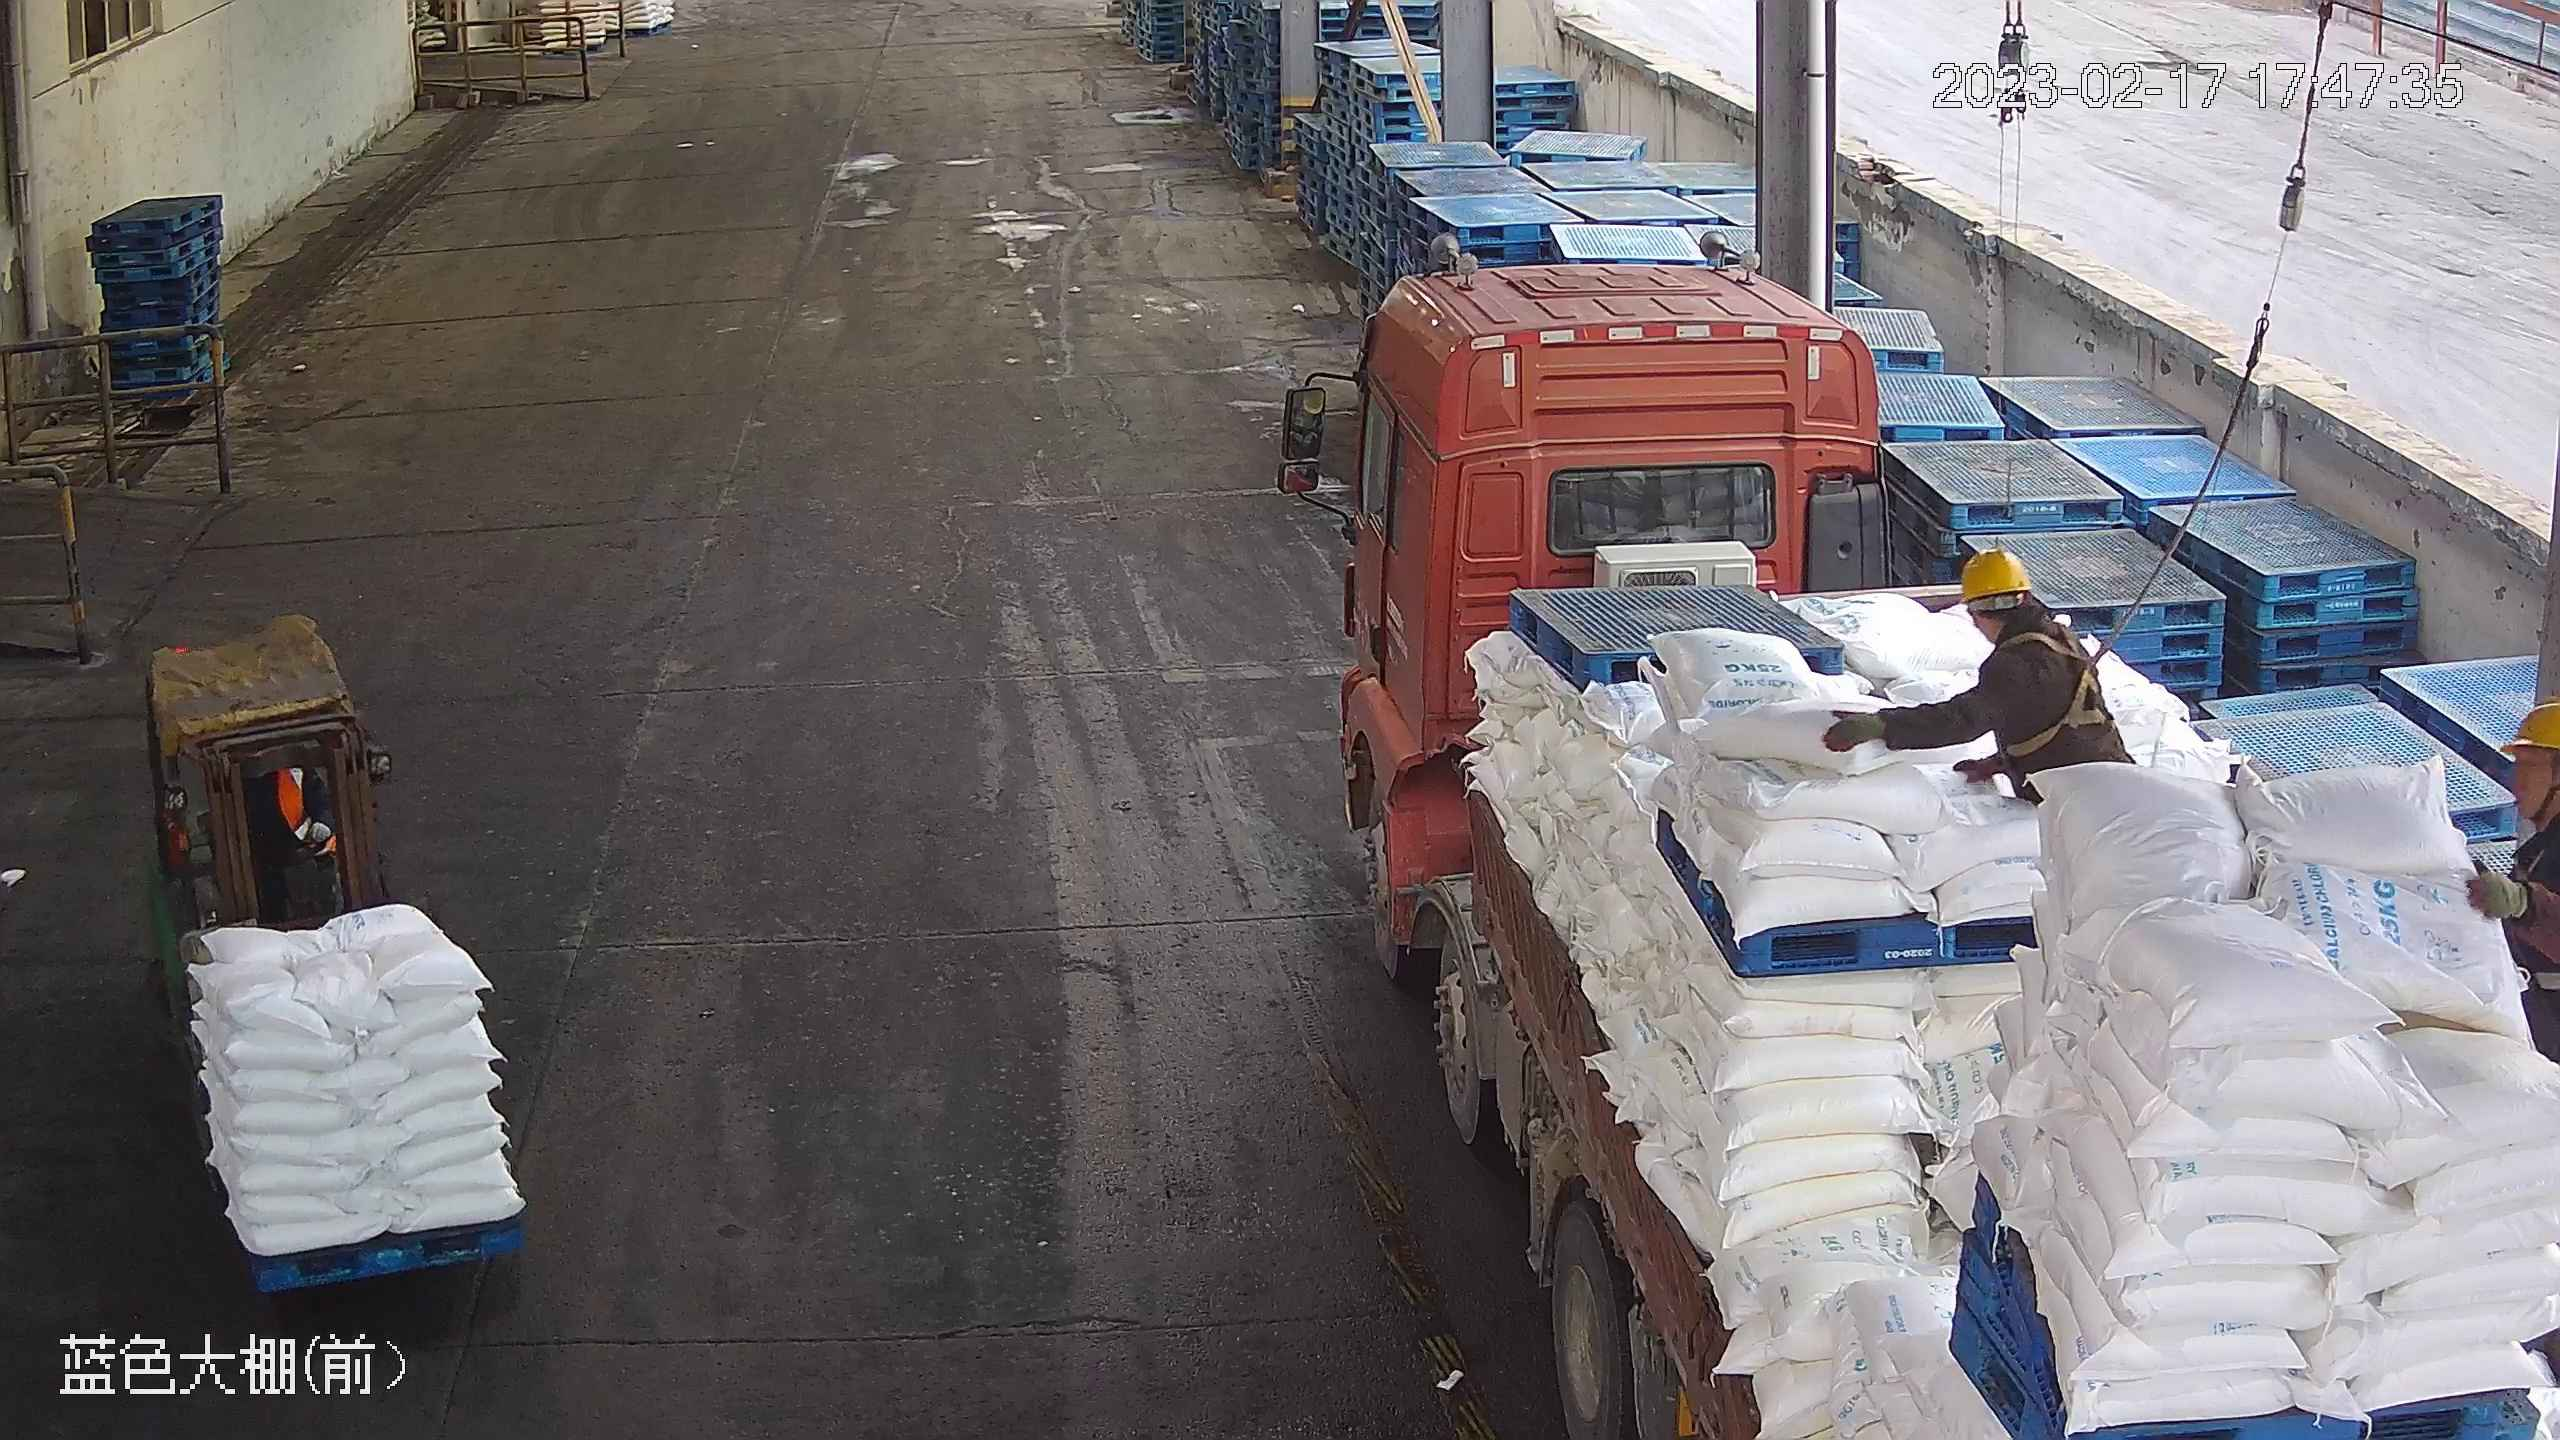belt: (1997, 616, 2115, 753)
head: (1952, 544, 2090, 678)
helmet: (1953, 546, 2033, 605), (2498, 693, 2560, 759)
people: (1830, 548, 2138, 900)
truck: (1279, 237, 2560, 1439)
